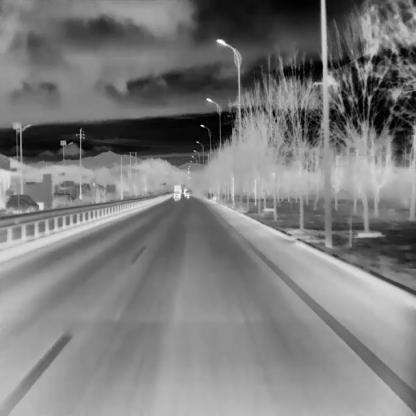car: (5, 197, 39, 213), (173, 184, 180, 195), (174, 189, 180, 199), (184, 190, 189, 198)
